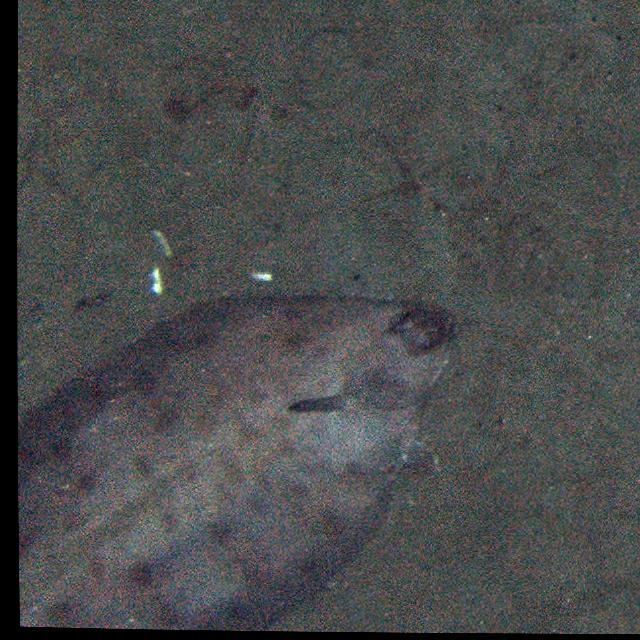flatfish: (21, 293, 453, 634)
